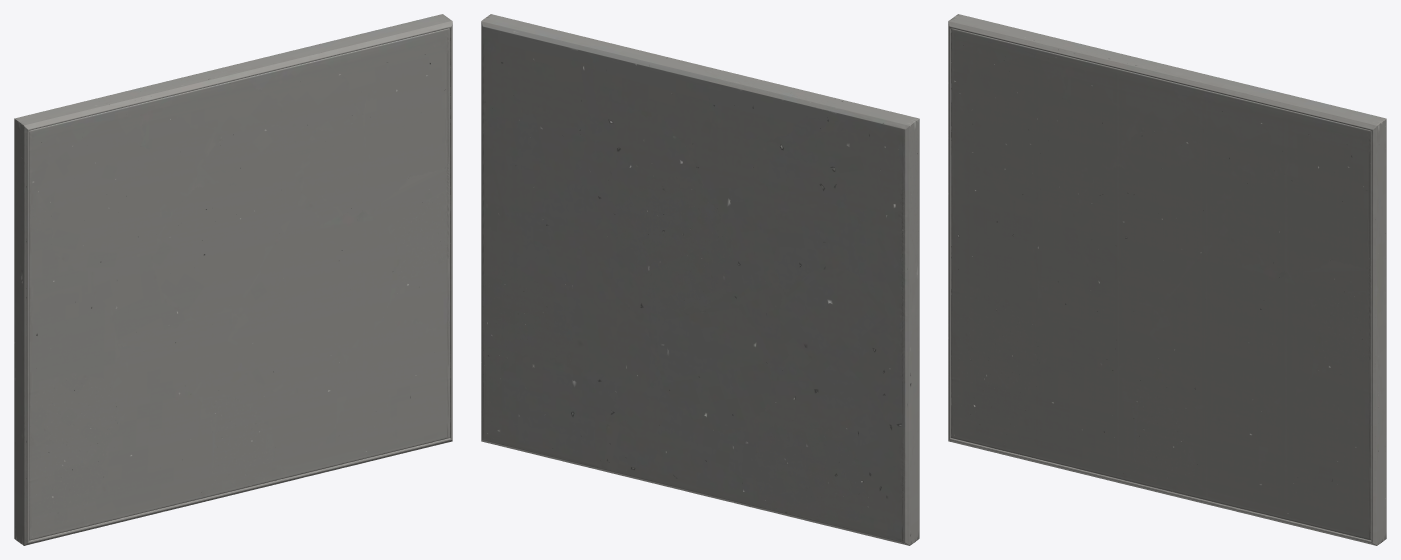
Rendered from model-24-wall-panel.glb.
3 views of the same model, side by side, from view 1: azimuth 30°, elevation 25°; view 2: azimuth 150°, elevation 25°; view 3: azimuth 330°, elevation 25° (orthographic).
Parts seen in each view (by area): view 1: node_0; view 2: node_0; view 3: node_0.
Boxes of the visible parts, bbox=[...] form: node_0: bbox=[14, 14, 452, 545]; node_0: bbox=[481, 14, 919, 545]; node_0: bbox=[948, 14, 1386, 545].
Size of the model in its own units: 0.8754 by 0.8208 by 0.0463.
1 material, 1 textured.
